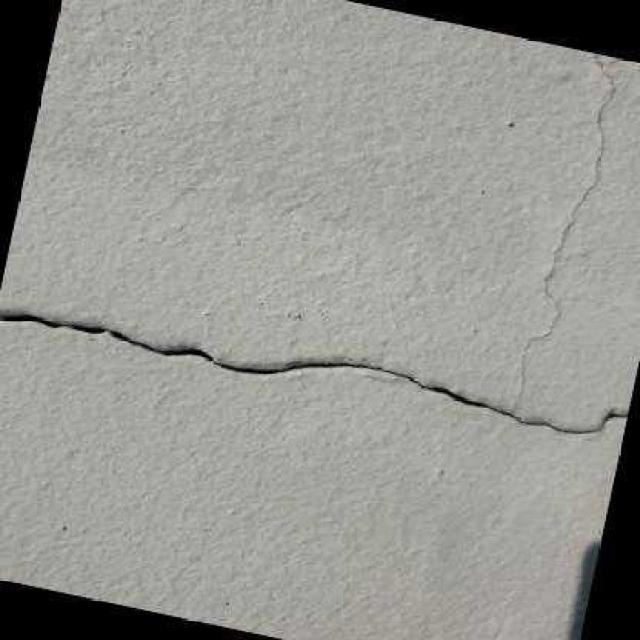D00: (0, 312, 627, 433)
